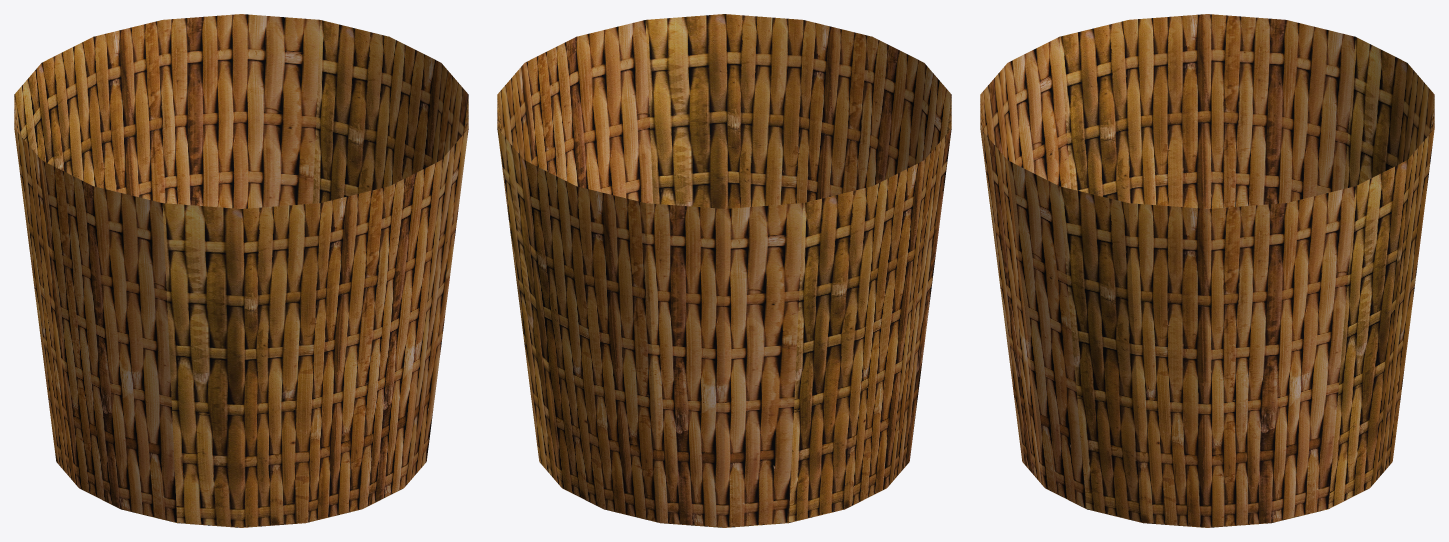
The model's file is WaxWorld_Basket.fbx.
3 renders of one model, left to right at view 1: azimuth 30°, elevation 25°; view 2: azimuth 150°, elevation 25°; view 3: azimuth 270°, elevation 25°, orthographic.
Parts seen in each view (by area): view 1: Cylinder003; view 2: Cylinder003; view 3: Cylinder003.
Part boxes in pixels (x1,y1,x2,y2): Cylinder003: (14, 14, 468, 527); Cylinder003: (497, 14, 951, 527); Cylinder003: (980, 14, 1434, 527).
Bounding box in the file's own units: 49.82 × 40.17 × 49.06.
1 material, 1 textured.
